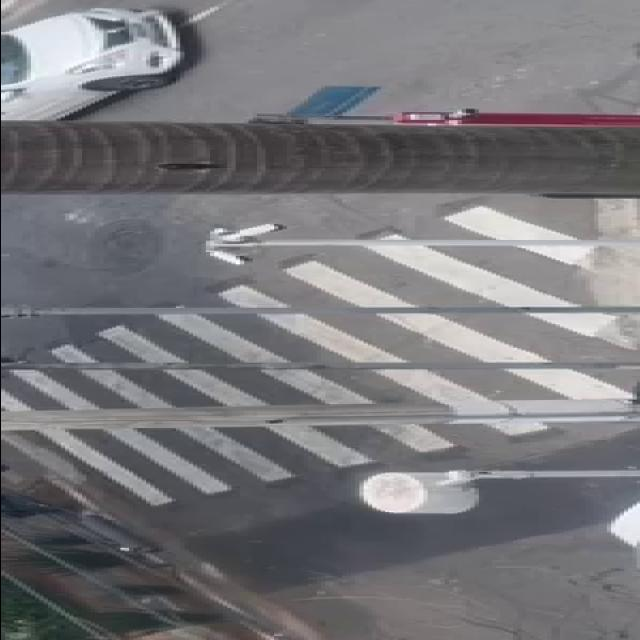car: (0, 3, 189, 136)
